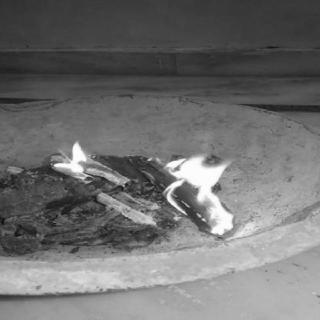Fire: (140, 129, 258, 239), (43, 139, 106, 183)
